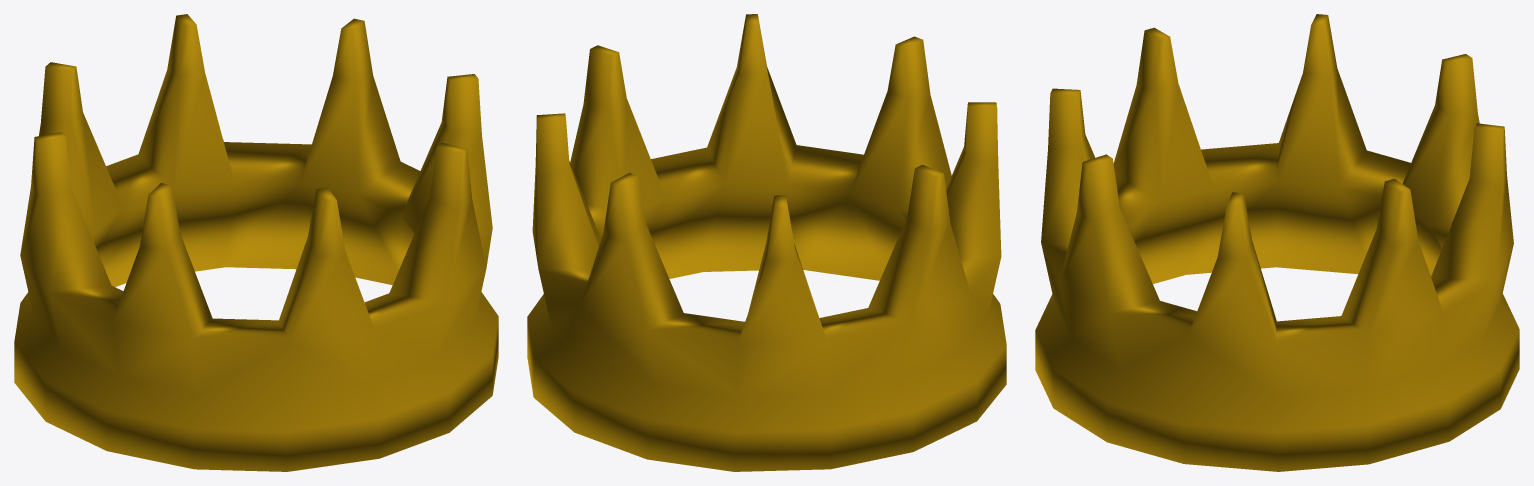
Rendered from Crown.fbx.
The picture shows the model from 3 angles, left to right: view 1: azimuth 30°, elevation 25°; view 2: azimuth 150°, elevation 25°; view 3: azimuth 270°, elevation 25°; orthographic projection.
Parts seen in each view (by area): view 1: Cylinder; view 2: Cylinder; view 3: Cylinder.
Boxes of the visible parts, x1,y1,x2,y2 form: Cylinder: (14,14,498,471); Cylinder: (527,14,1006,471); Cylinder: (1035,14,1519,471).
Bounding box in the file's own units: 185 × 110 × 185.
